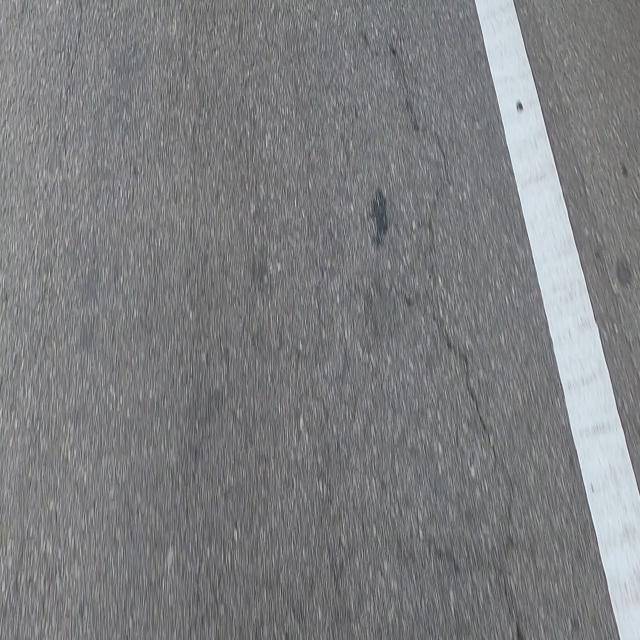Retak-Memanjang: (386, 42, 523, 638)
